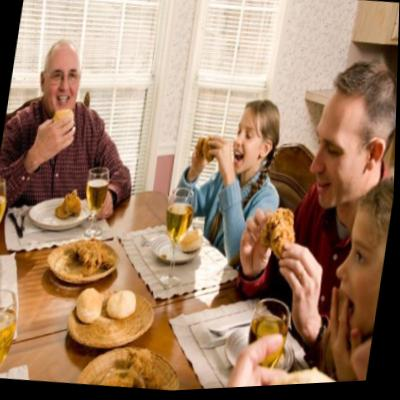happy: (302, 99, 363, 215), (42, 53, 83, 117), (231, 117, 265, 176)
surprise: (328, 217, 390, 339)
